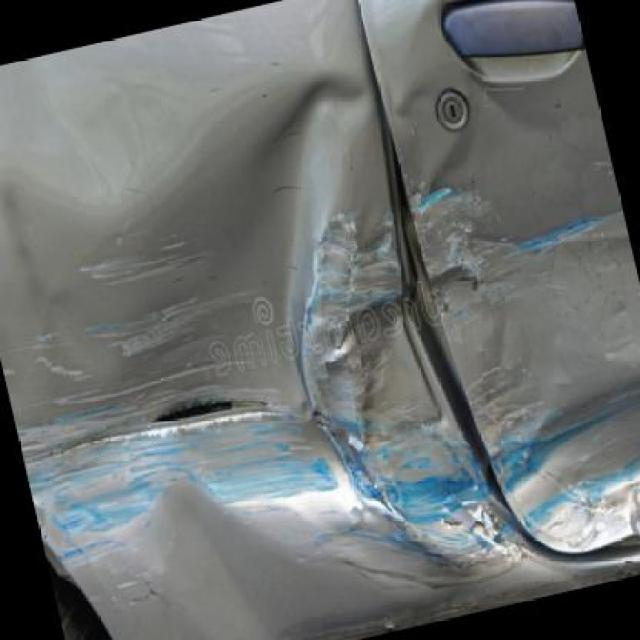dent: (4, 59, 472, 557)
